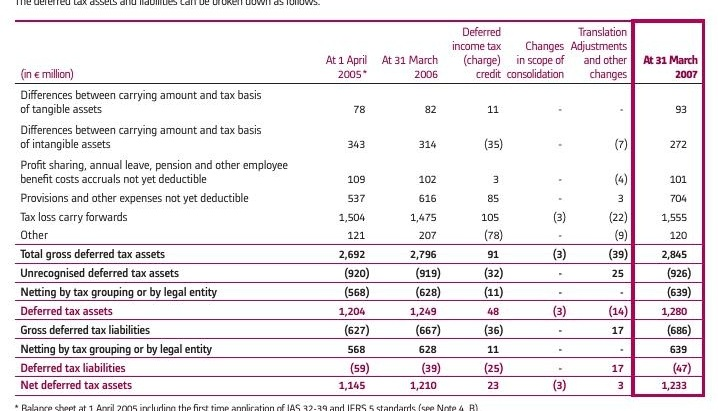table: (0, 0, 718, 411)
